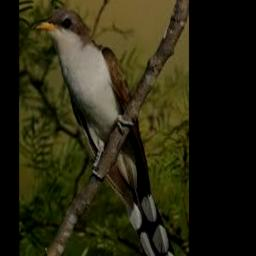Cuckoo: (33, 8, 177, 256)
